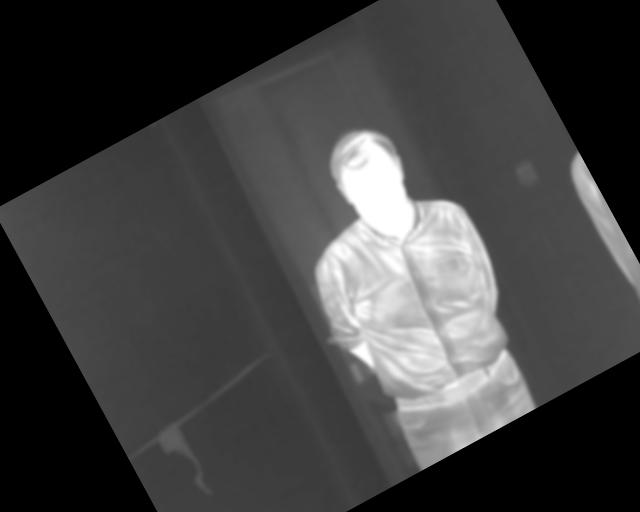face: (314, 114, 430, 244)
